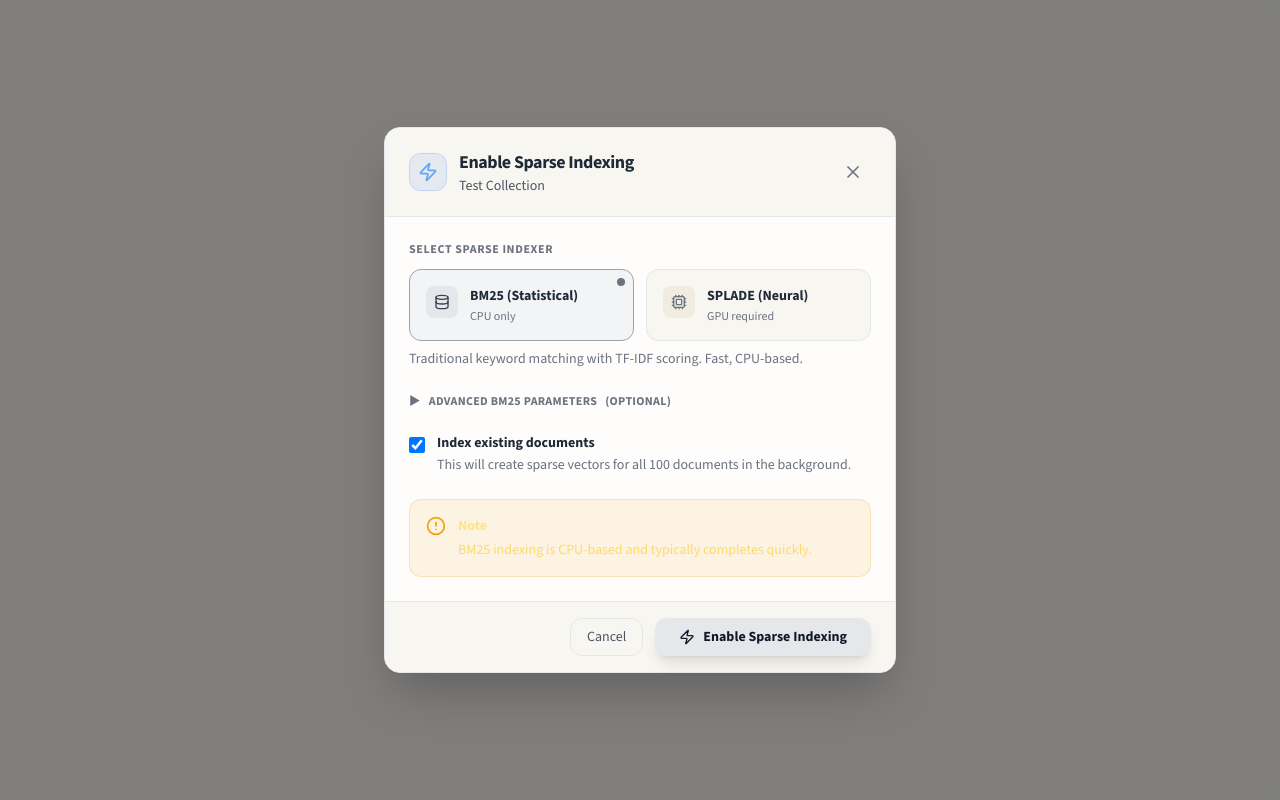
Scenario: SparseIndexConfigModal › BM25 advanced parameters › shows advanced section when toggle is clicked
Click the button "▶ Advanced BM25 Parameters (optional)" at x=540, y=401, box [409, 393, 671, 409]
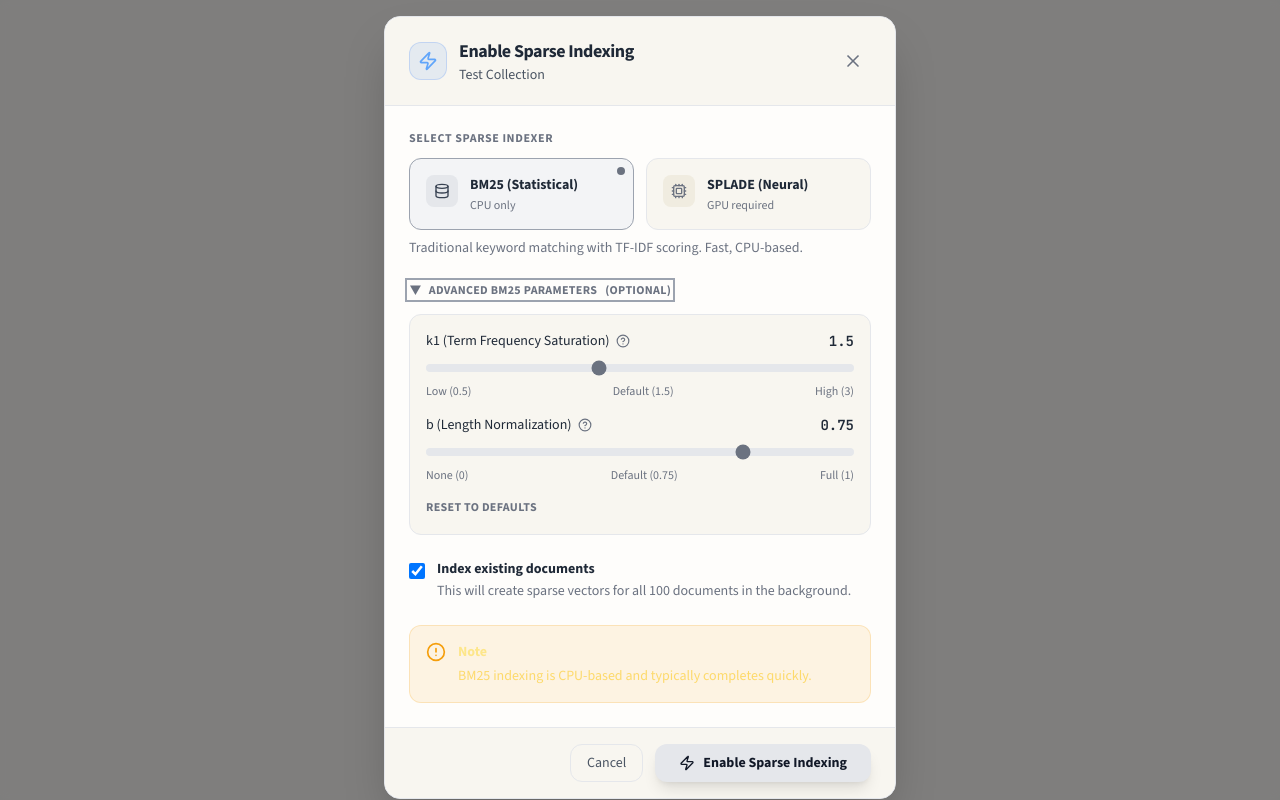
Expected: the text "k1 (Term Frequency Saturation)" is shown, [426, 331, 630, 351]
Expected: the text "b (Length Normalization)" is shown, [426, 415, 592, 435]
